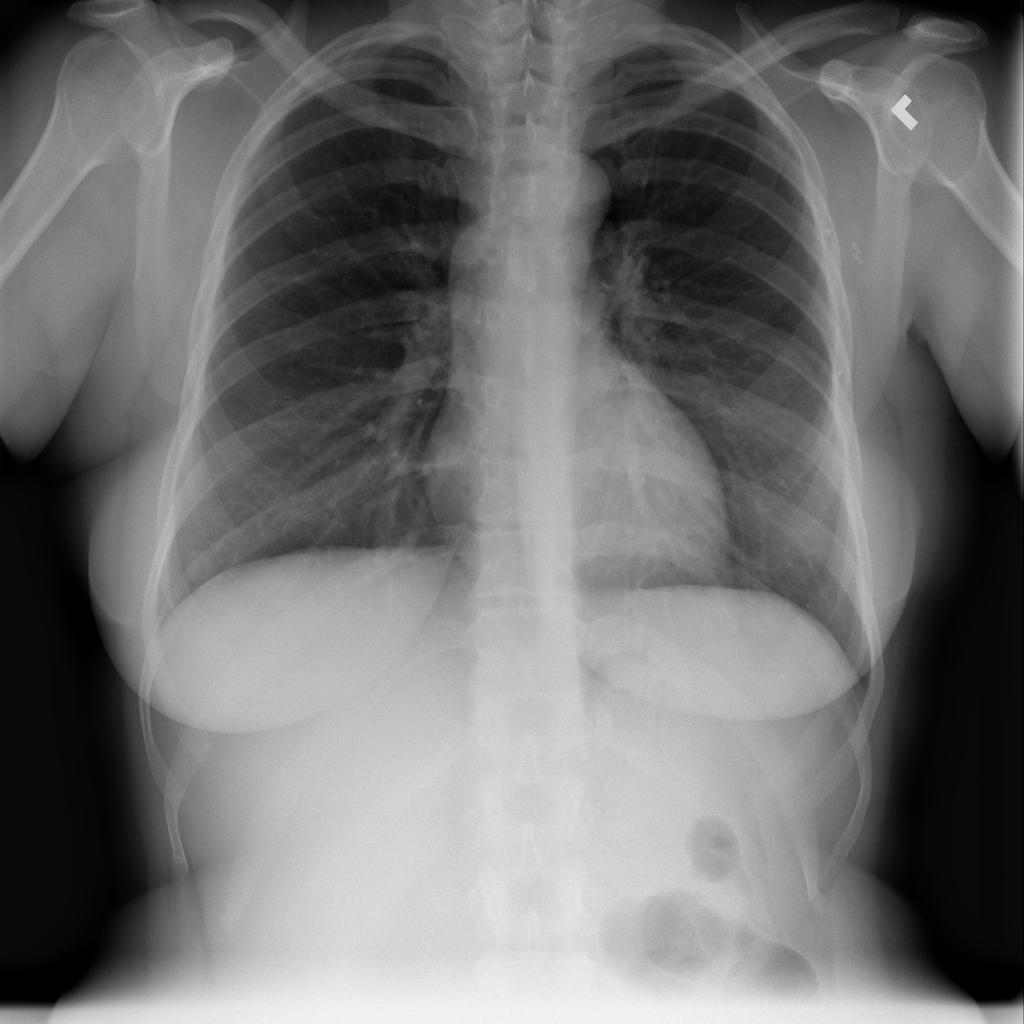nodule: (174, 539, 225, 590)
